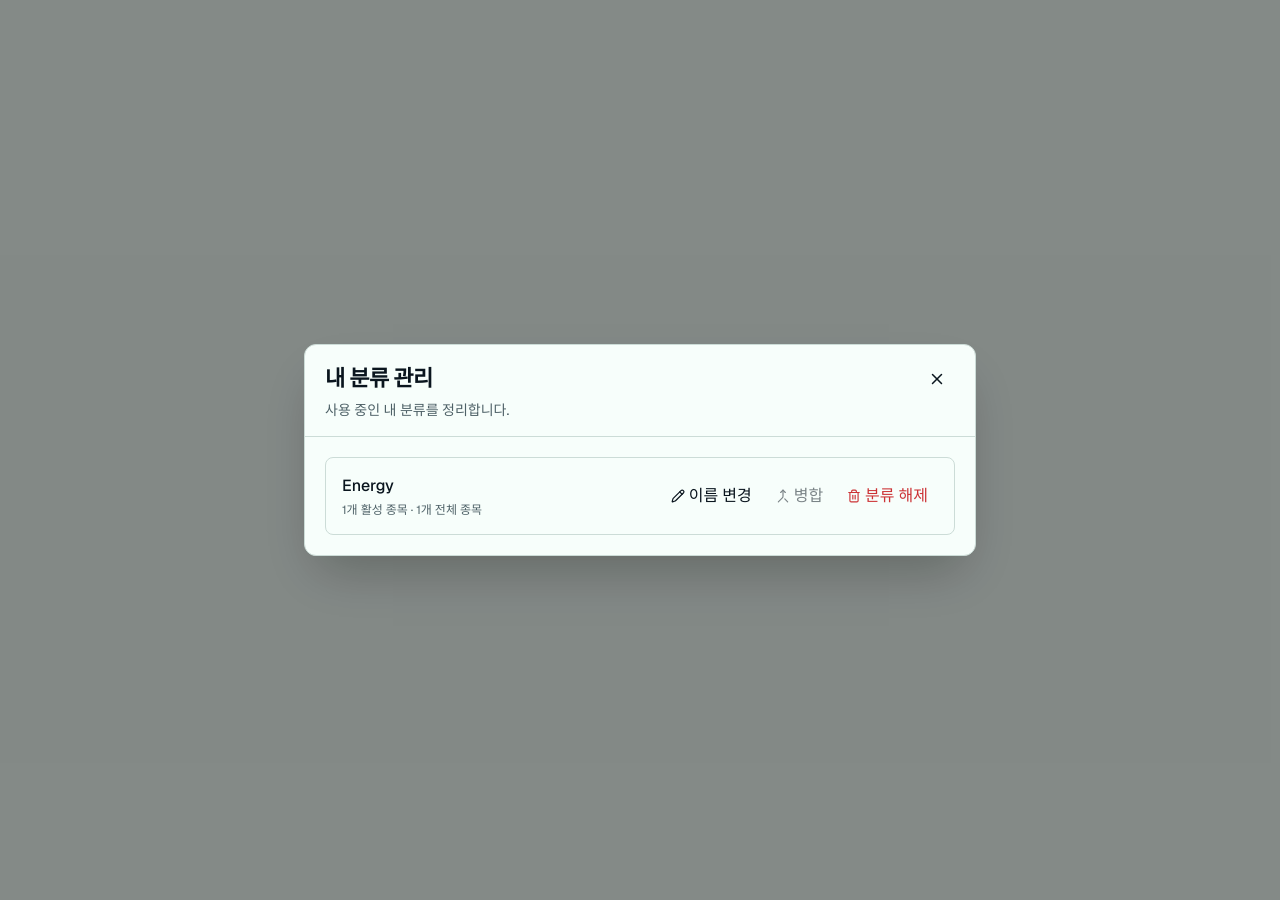
PortfolioCategoryManager › keeps the manager open and reports persistence failure
Click the button "분류 해제" at (888, 496), box [837, 478, 938, 514]
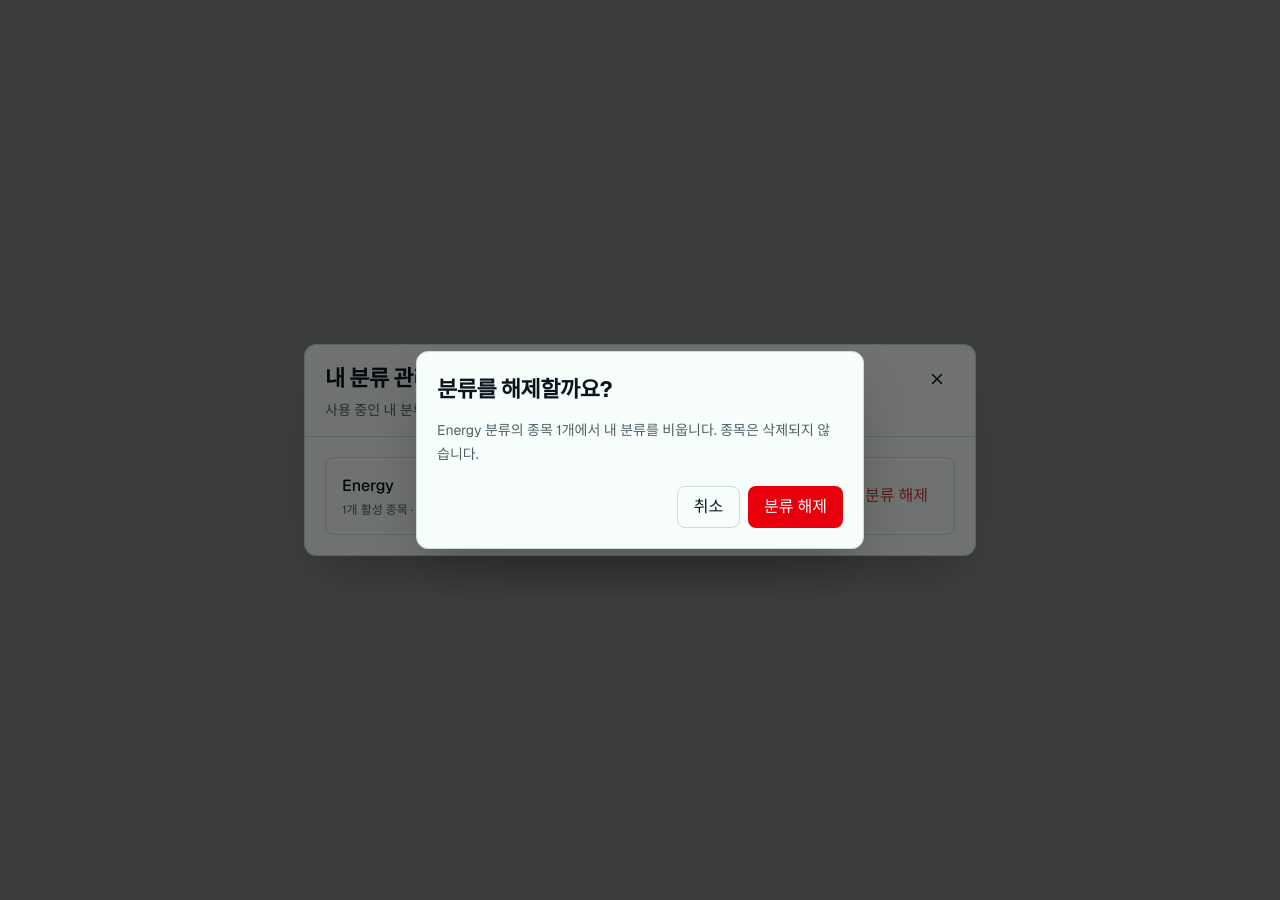
Click the button "분류 해제" at (796, 507), box [748, 486, 843, 528]
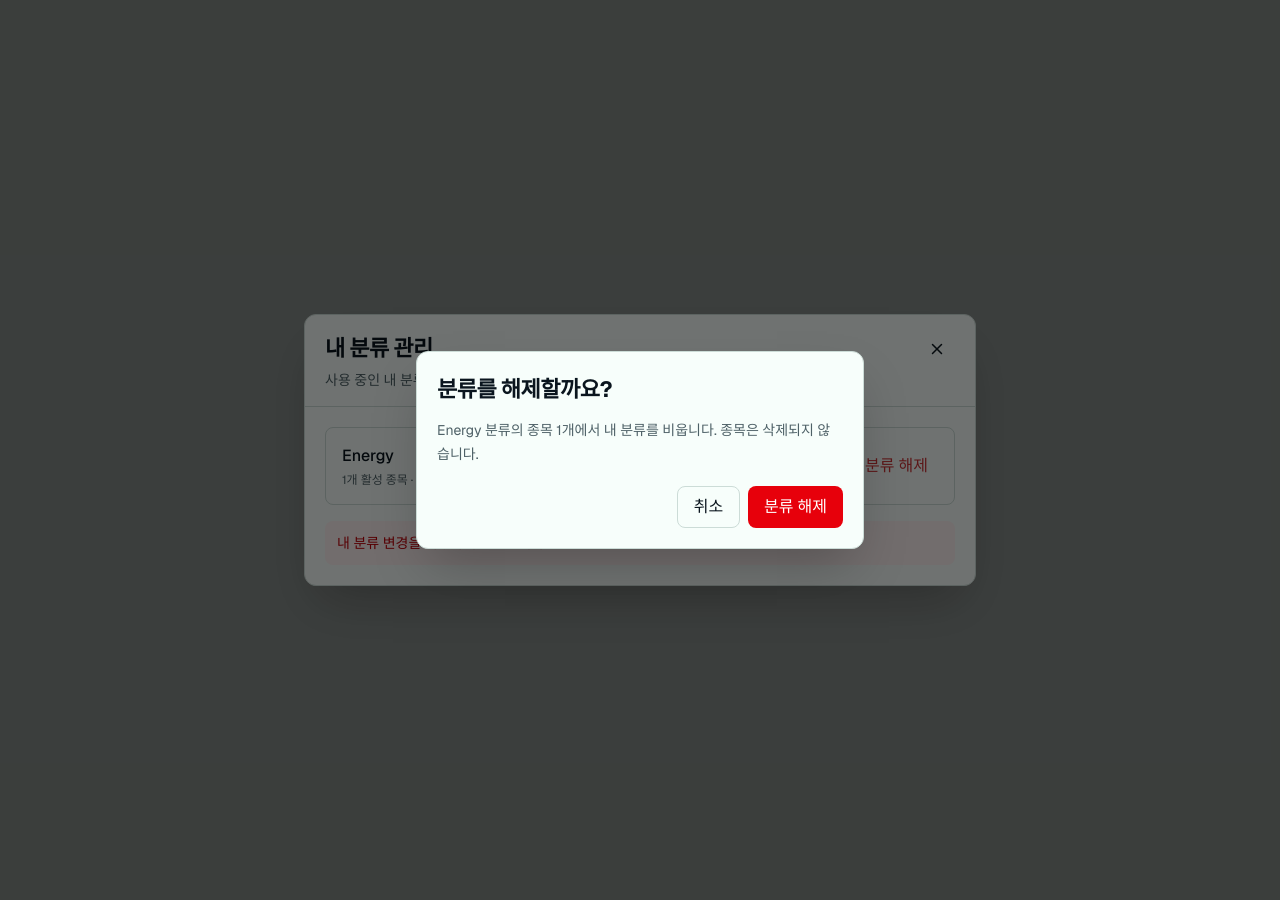
Check: the message reads "내 분류 변경을 저장하지 못했습니다.", box [337, 534, 547, 552]
